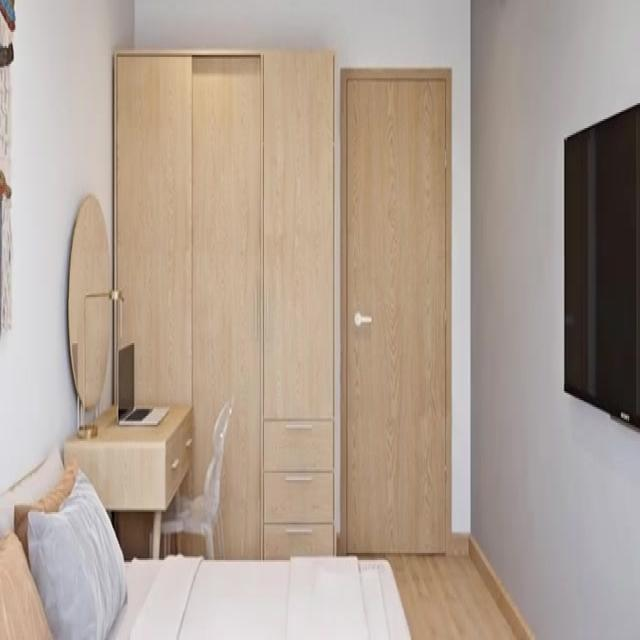door: (340, 68, 449, 554)
obstacle: (112, 48, 335, 560), (0, 448, 412, 638), (63, 399, 193, 556), (149, 394, 234, 560)
